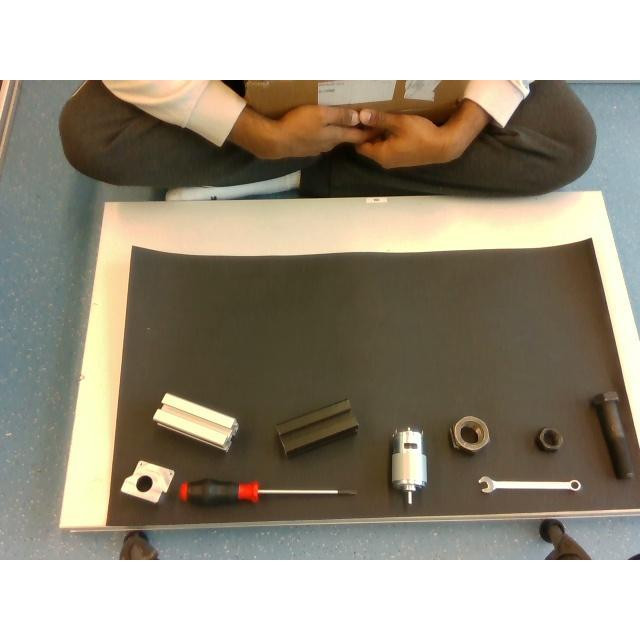M20: (535, 427, 563, 451)
M20_100: (590, 390, 634, 478)
M30: (450, 416, 490, 452)
Motor2: (390, 428, 426, 504)
S40_40_B: (274, 398, 358, 454)
S40_40_G: (154, 393, 238, 451)
